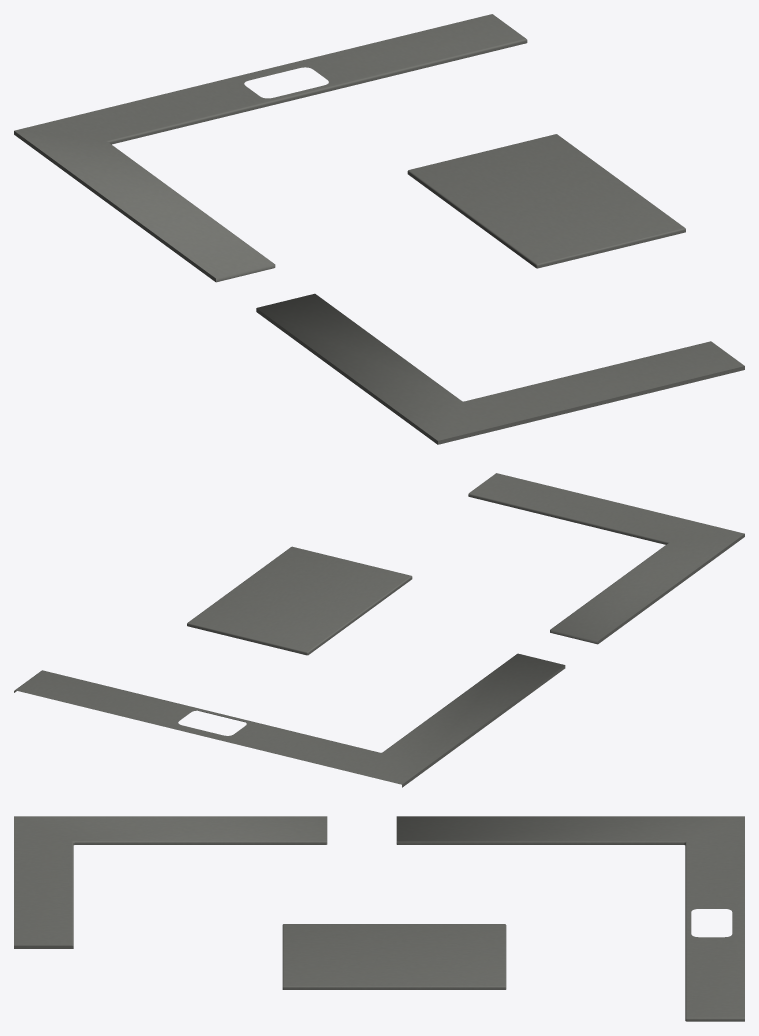
The model's file is Countertops_QuartzExpoGray.glb.
The picture shows the model from 3 angles, top to bottom: view 1: azimuth 30°, elevation 25°; view 2: azimuth 150°, elevation 25°; view 3: azimuth 270°, elevation 25°; orthographic projection. The views are drawn at different scales.
Parts seen in each view (by area): view 1: Countertops_Quartz Expo Gray; view 2: Countertops_Quartz Expo Gray; view 3: Countertops_Quartz Expo Gray.
Boxes of the visible parts, x1=… form: Countertops_Quartz Expo Gray: x1=14, y1=14, x2=744, y2=444; Countertops_Quartz Expo Gray: x1=14, y1=473, x2=744, y2=787; Countertops_Quartz Expo Gray: x1=14, y1=816, x2=744, y2=1021.
Size of the model in its own units: 6.4 by 0.05 by 9.8.
Materials: 1 (1 with a texture image).
